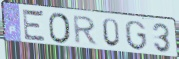0: (101, 18, 121, 49)
3: (152, 23, 171, 55)
E: (22, 7, 48, 44)
G: (124, 20, 149, 52)
O: (48, 12, 73, 45)
R: (73, 15, 99, 47)
